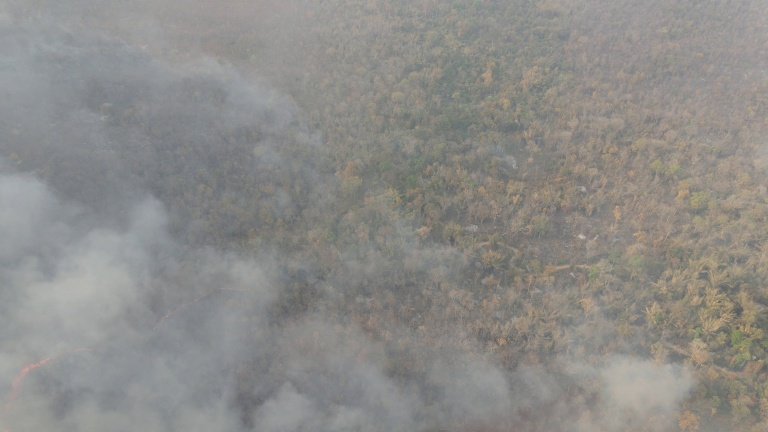fire: (3, 345, 78, 426), (146, 278, 227, 337)
smoke: (27, 221, 256, 427), (198, 65, 317, 147), (594, 356, 685, 419)
